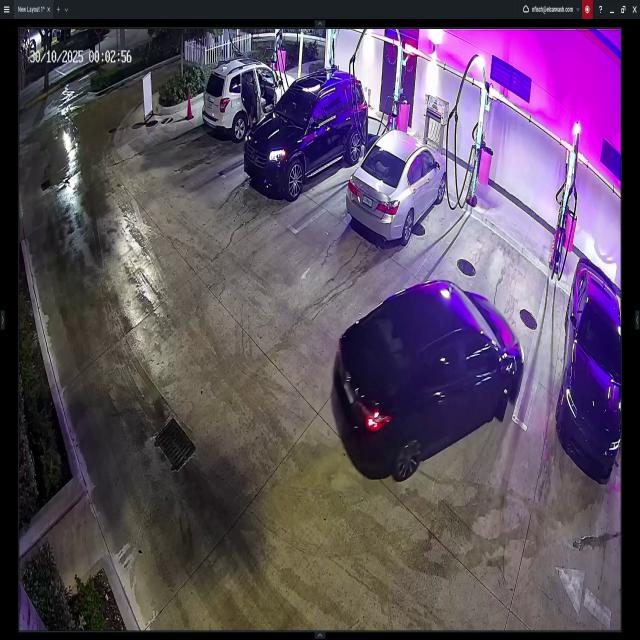Car: (338, 282, 522, 478), (244, 71, 366, 200), (558, 259, 622, 483), (346, 132, 447, 242), (203, 57, 297, 144)
